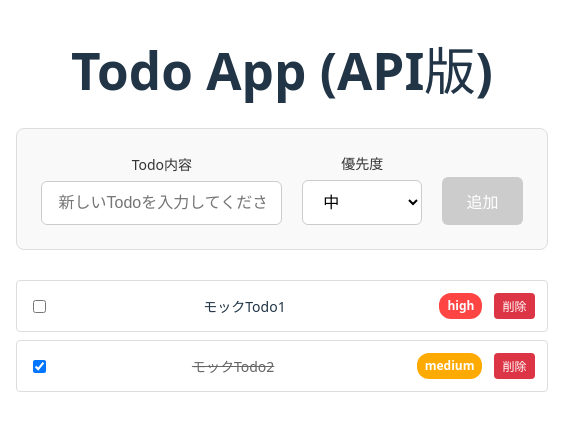
Test: TodoApp統合テスト › API版 - MSW統合テスト › 新しいTodoをAPI経由で追加する
Type "API経由で追加" into the field. click: (162, 203)
box: [42,181,282,225]
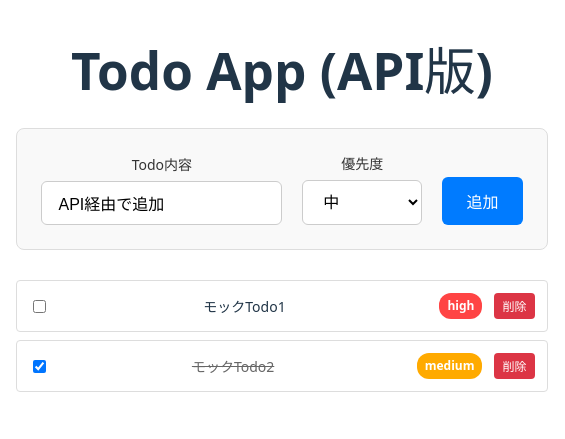
Click the button "追加". click: (482, 201)
box: [442,177,522,225]
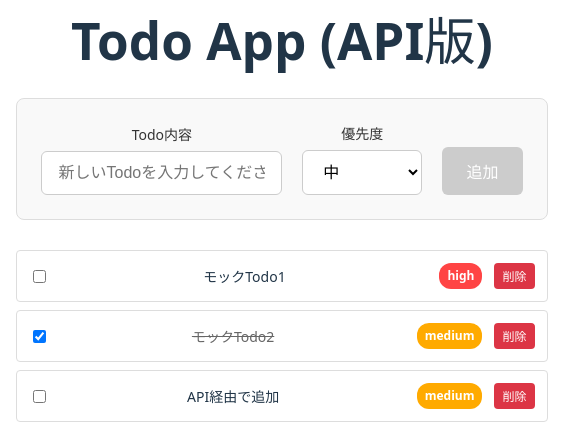
Expected: the text "API経由で追加" is shown, [187,387,279,406]
